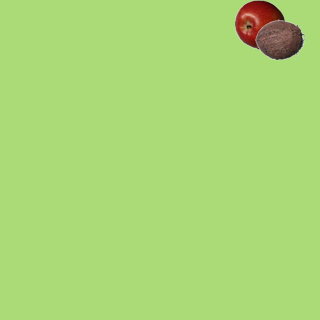Apple Braeburn: (234, 0, 284, 49)
Cocos: (254, 14, 304, 64)
